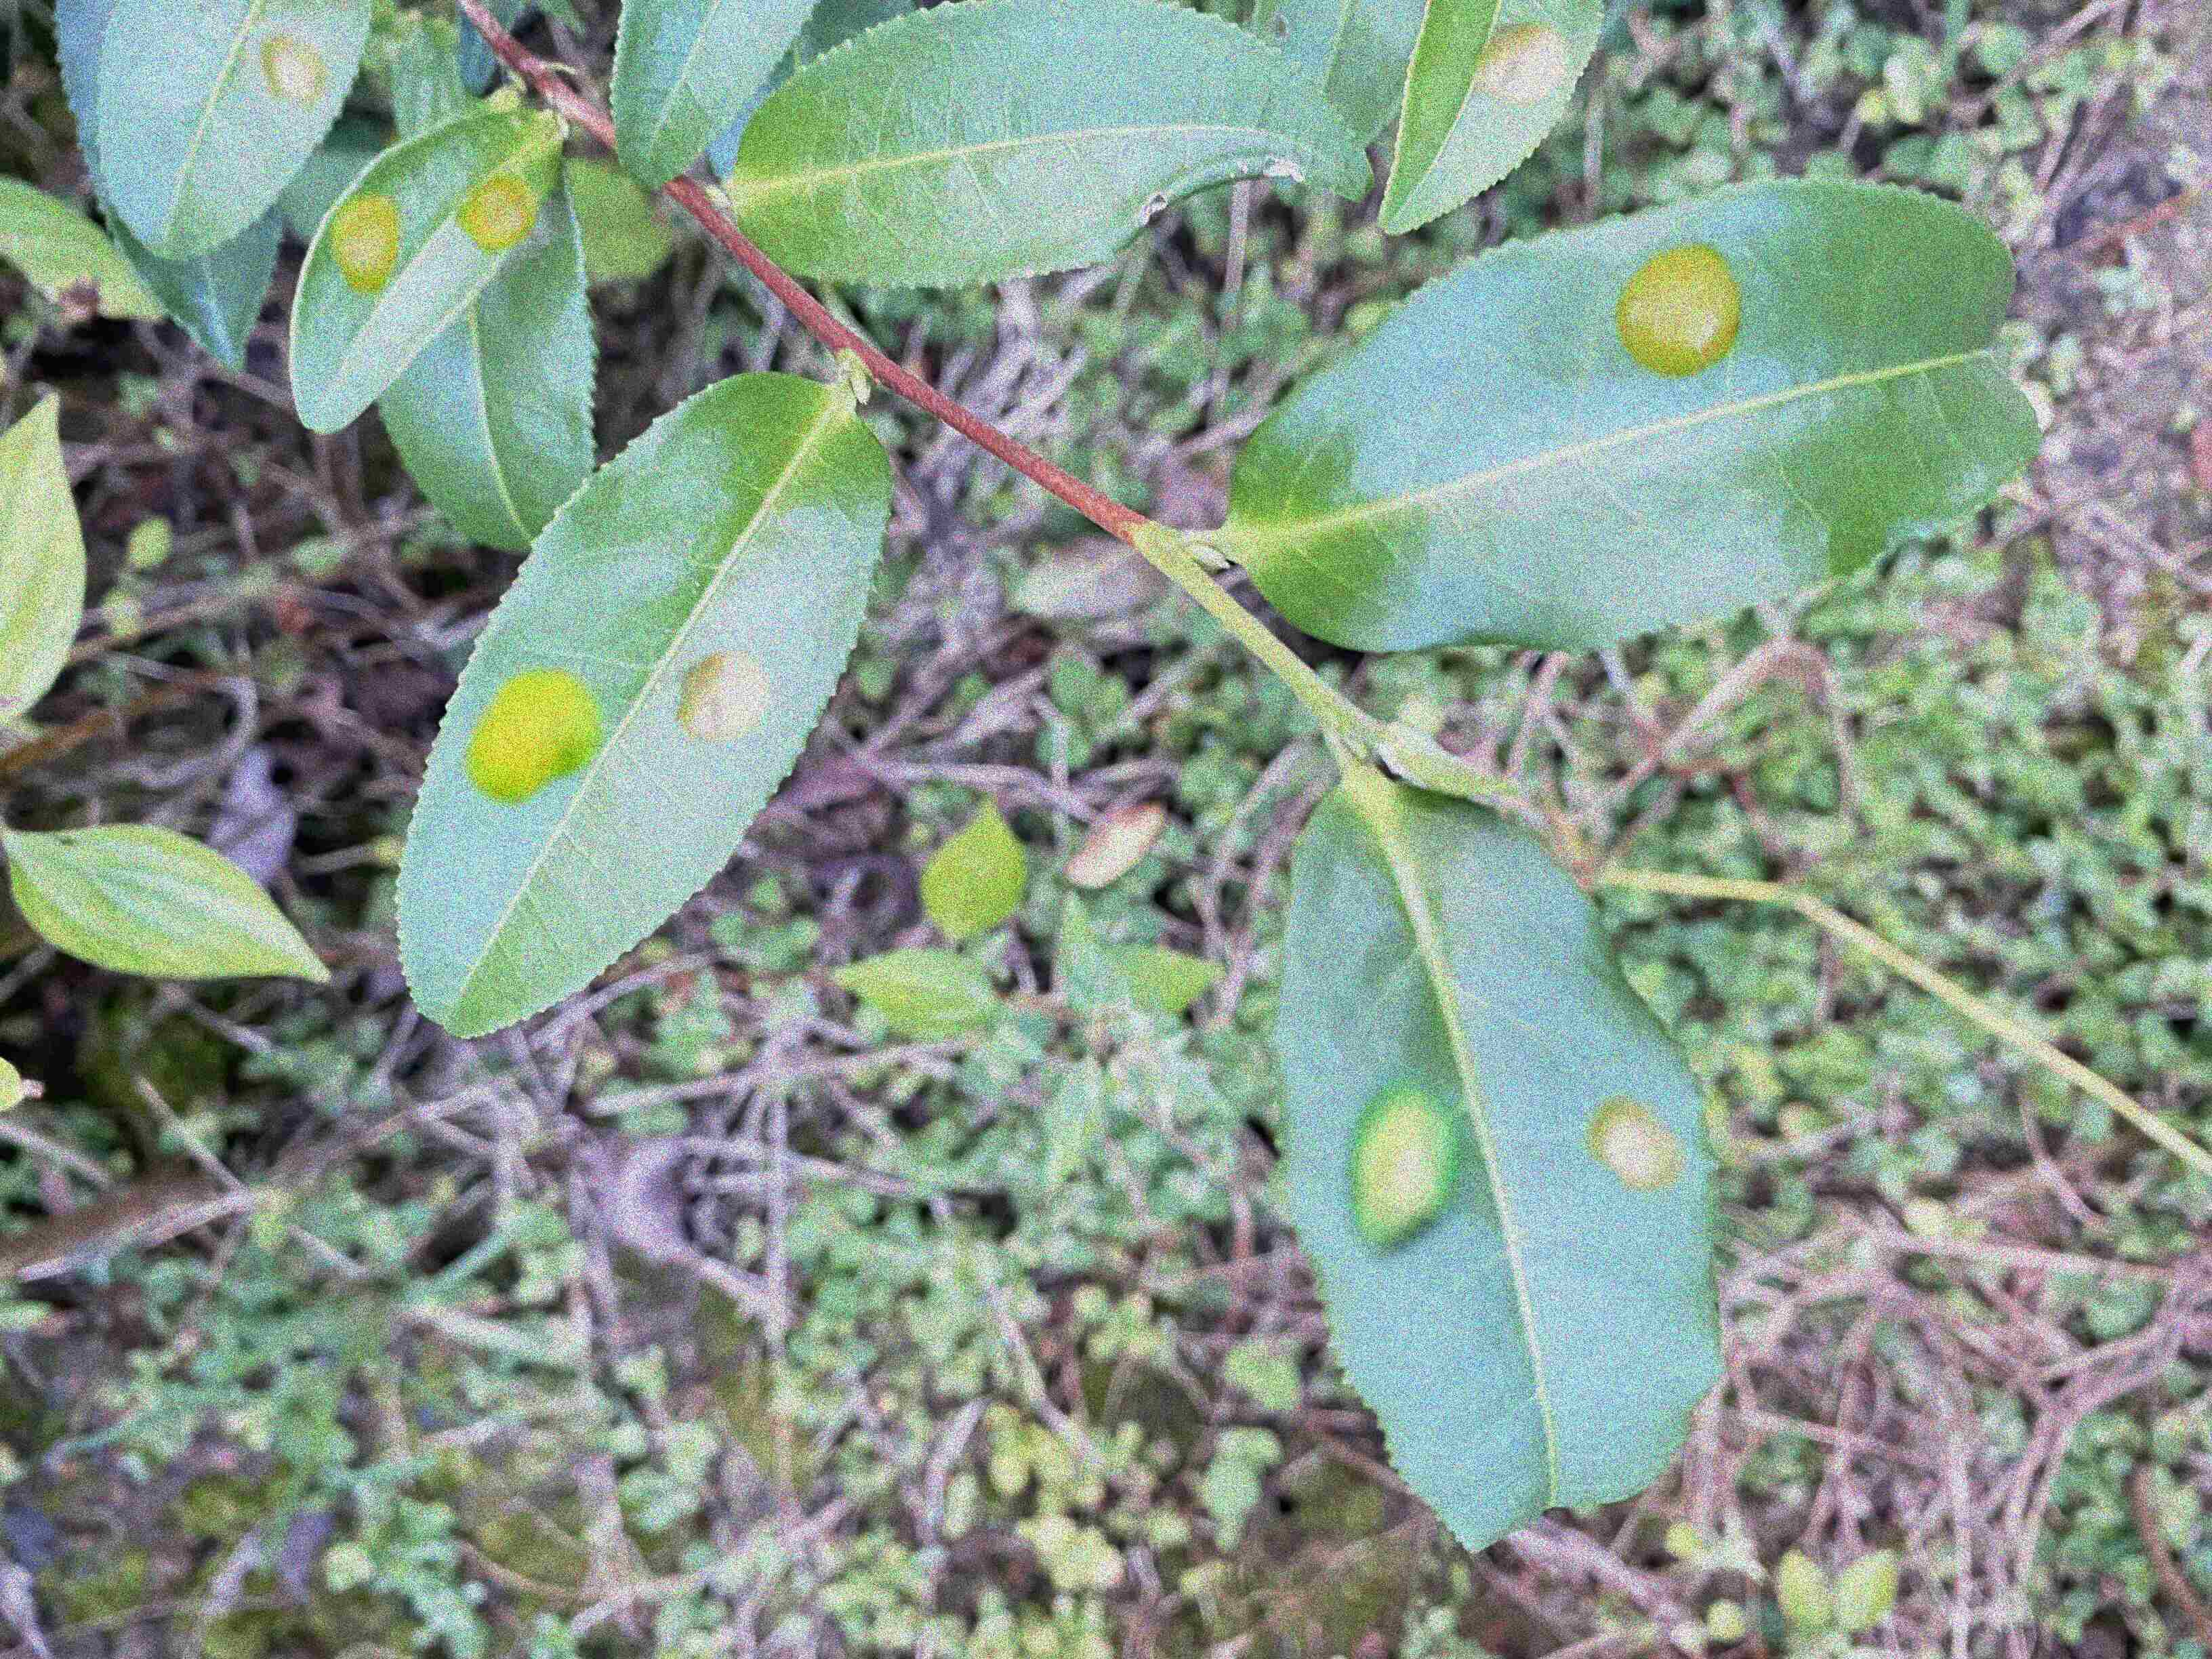chabing_high: (1277, 767, 1726, 1553), (394, 368, 895, 1042), (287, 110, 566, 436)
chabing_low: (1231, 171, 2045, 662), (94, 3, 374, 260), (1378, 3, 1606, 234)
